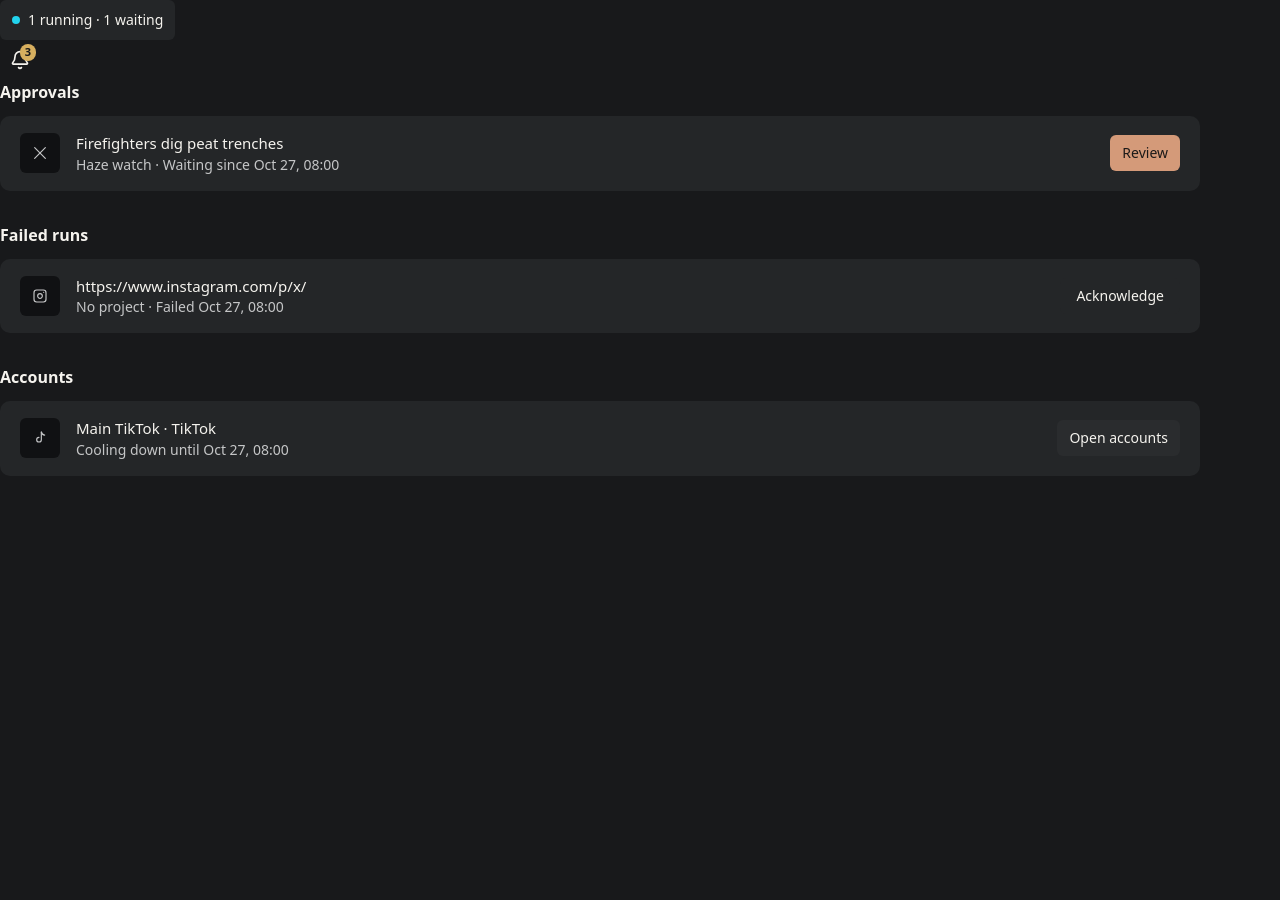
Test: the bell names the count; the tray lists active runs and sends a waiting one to review
Expected: the link named "Inbox: 3 decisions waiting" is shown, 10,44 -> 36,70
Click the button "1 running · 1 waiting": (88, 20) 0,0 -> 175,40
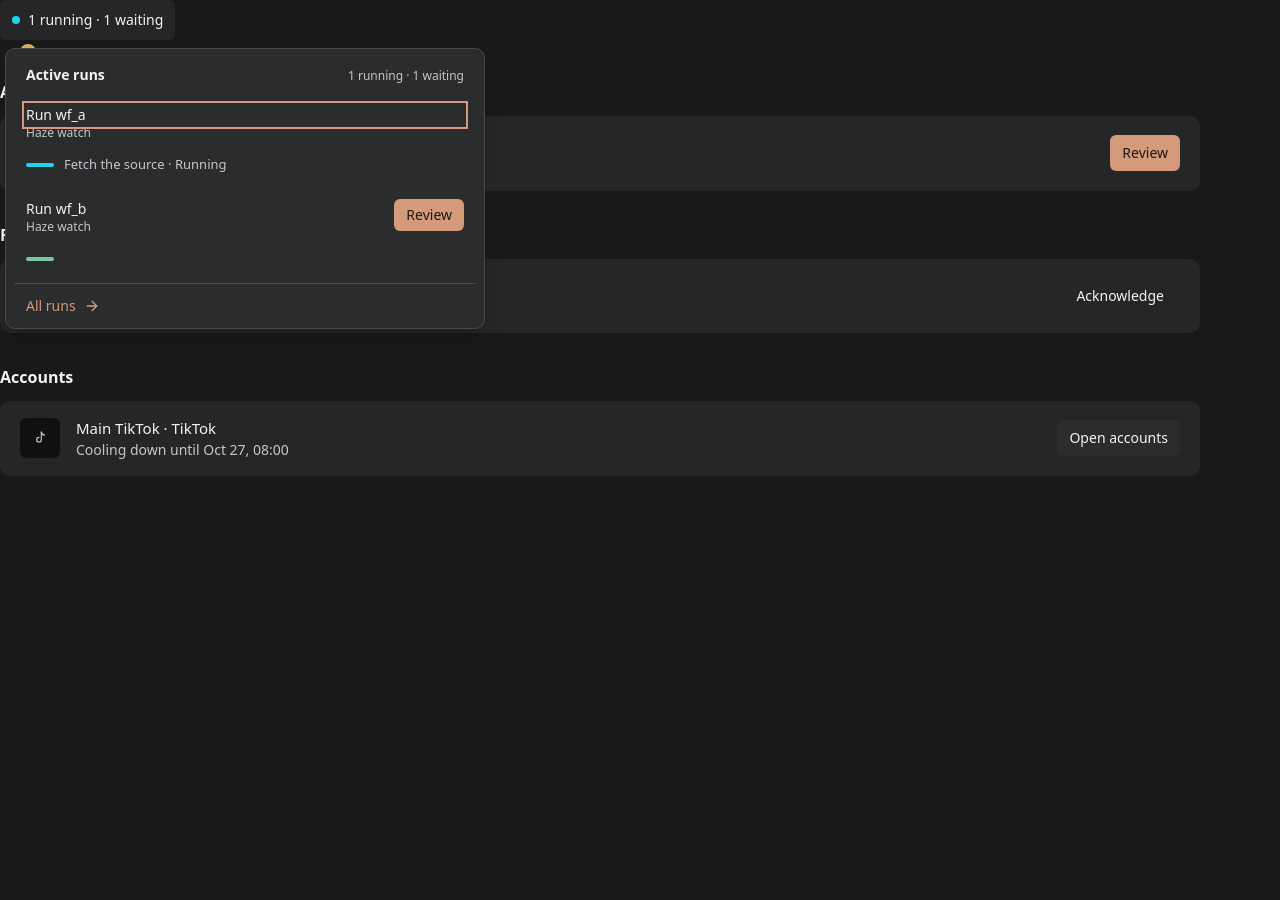
Expected: the heading "Active runs" is shown, 26,65 -> 105,85
Expected: the link "Run wf_a" is shown, 26,105 -> 86,124
